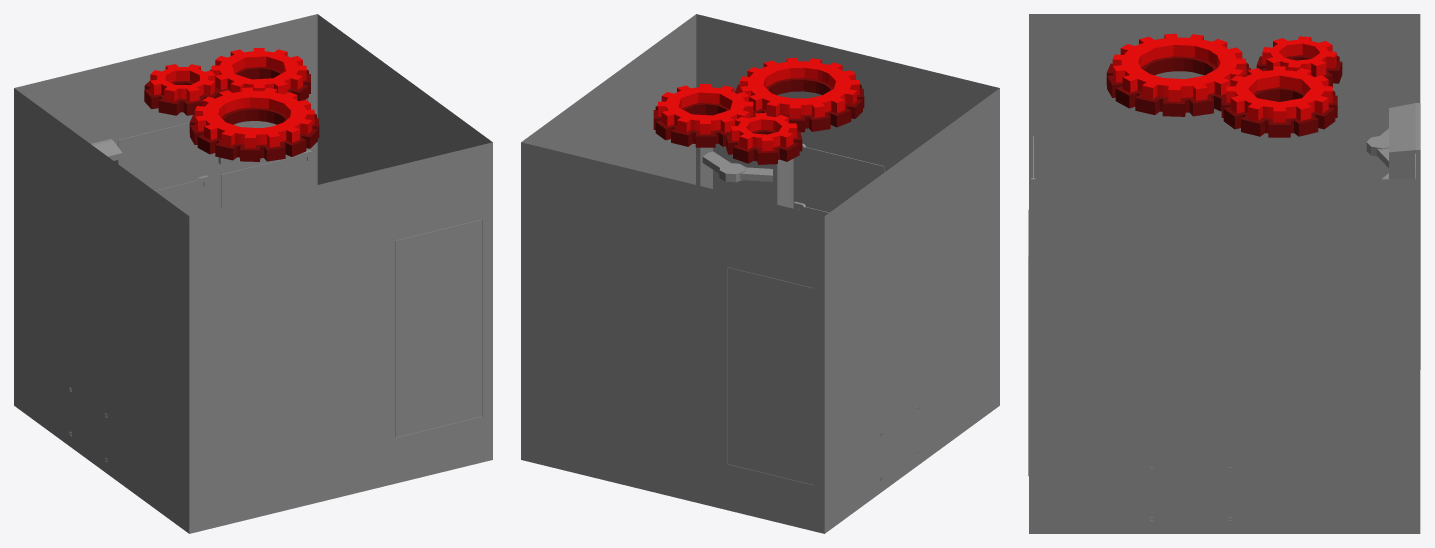
File: MaintenanceRoom.FBX
3 views of the same model, side by side, from view 1: azimuth 30°, elevation 25°; view 2: azimuth 150°, elevation 25°; view 3: azimuth 270°, elevation 25° (orthographic). The views are drawn at different scales.
Parts seen in each view (by area): view 1: MaintenanceRoom; view 2: MaintenanceRoom; view 3: MaintenanceRoom.
Part boxes in pixels (box(x1,y1,x2,y2)): MaintenanceRoom: box(14, 14, 492, 533); MaintenanceRoom: box(521, 14, 999, 533); MaintenanceRoom: box(1028, 14, 1420, 533).
Bounding box in the file's own units: 197 × 210 × 198.
